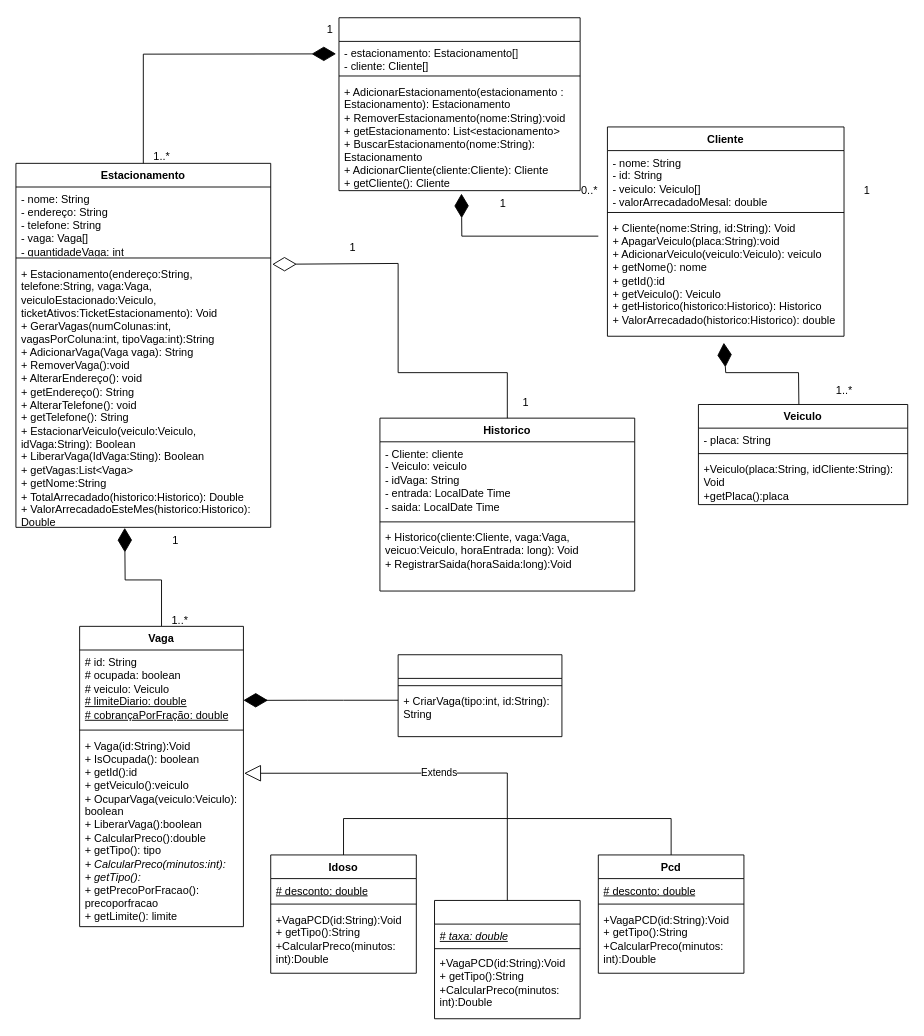
This 924x1036 diagram has some shape labels left out. The shapes that lost their labels are listed below. From the top down, each one's box as (x1, y1, x2, y2) in pixels, then its label:
(338, 17, 580, 191): Xulambs
(397, 654, 562, 737): VagaFactory
(434, 900, 580, 1019): Vip
